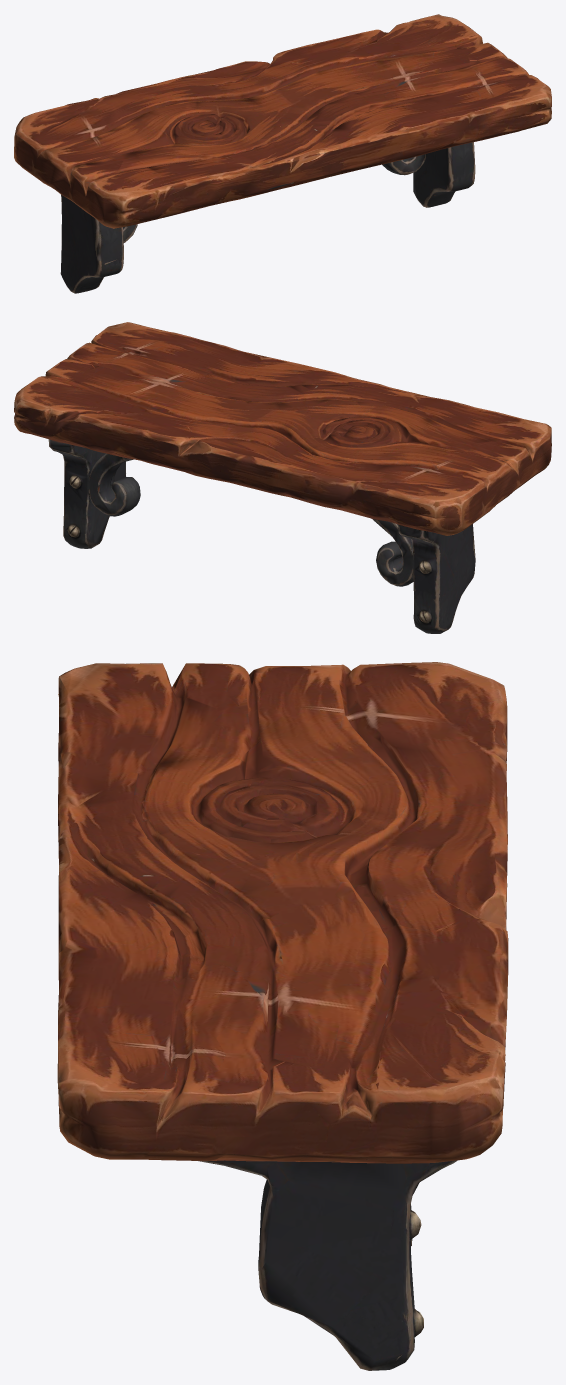
Rendered from d_wall_shelf.glb.
3 views of the same model, one above another, from view 1: azimuth 30°, elevation 25°; view 2: azimuth 150°, elevation 25°; view 3: azimuth 270°, elevation 25° (orthographic). The views are drawn at different scales.
Size of the model in its own units: 1.9 by 0.6416 by 0.8284.
1 material, 1 textured.
